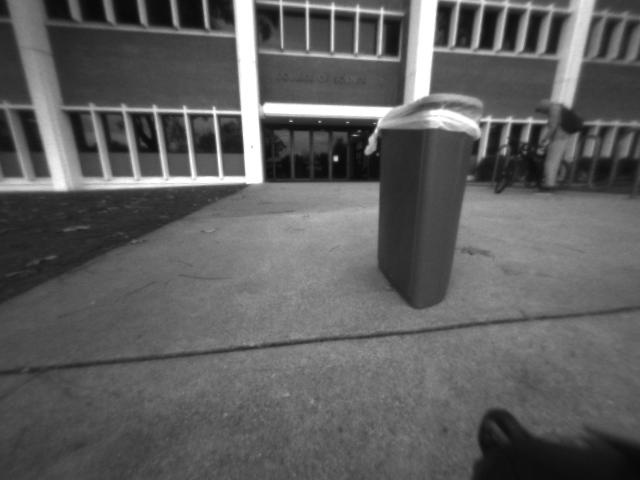trashcan_open: (367, 87, 497, 316)
